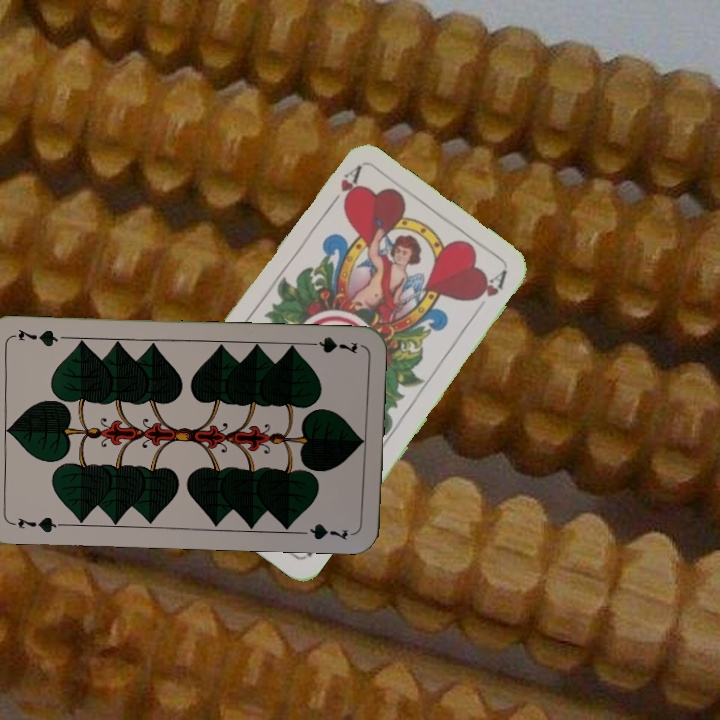G7: (301, 333, 360, 357), (6, 512, 65, 536)
HA: (322, 163, 364, 215)
